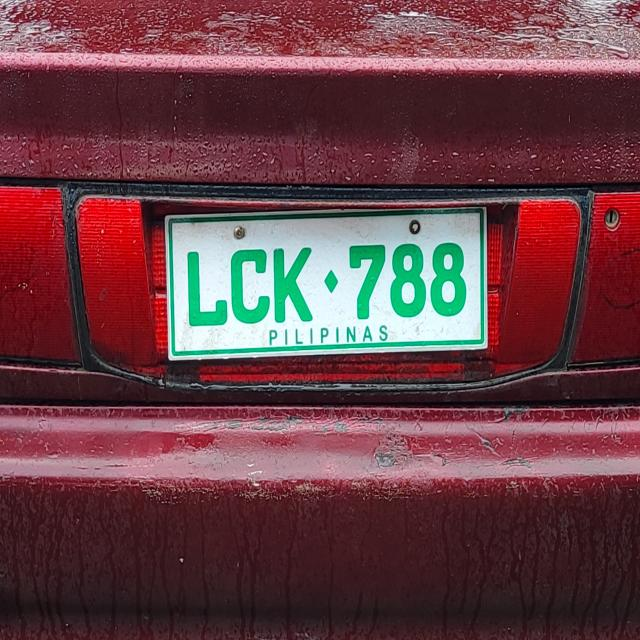plate: (162, 203, 491, 364)
